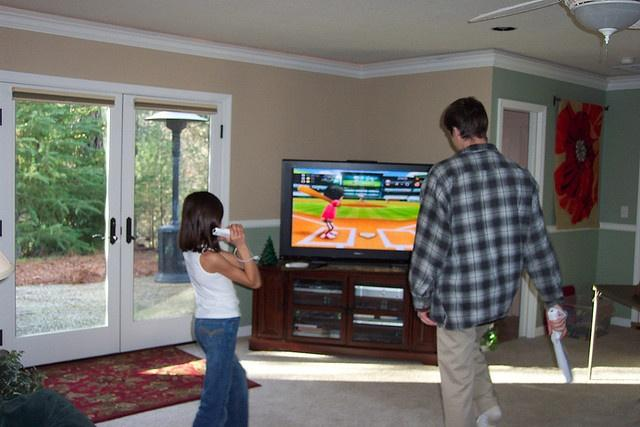AIO PC-Monitor-TV: (279, 157, 434, 262)
